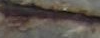Exposed reinforcement: (1, 1, 100, 24)
